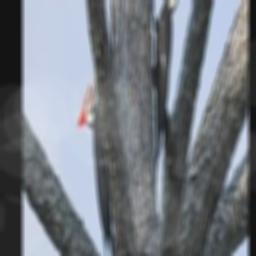Woodpecker: (77, 62, 113, 256), (149, 0, 184, 174)
